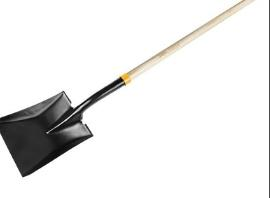PELLE: (0, 0, 270, 194)
